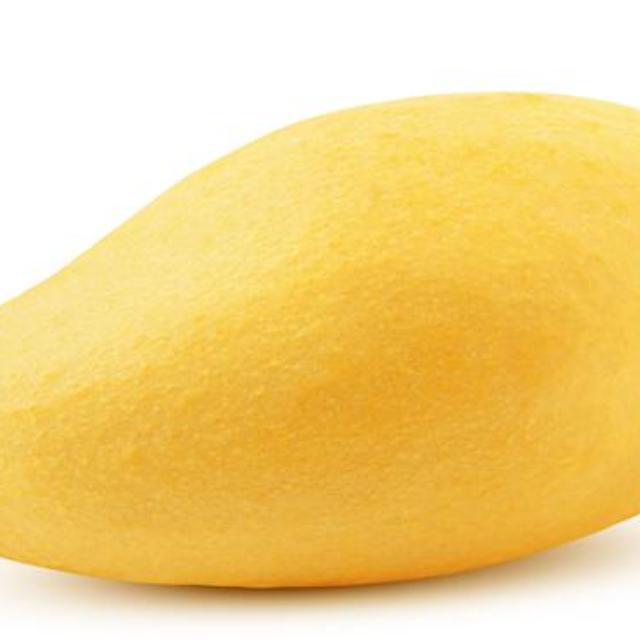mango: (0, 84, 640, 589)
